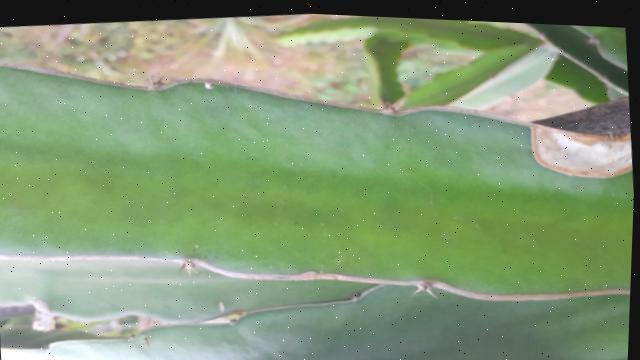stemcanker: (1, 247, 632, 336)
